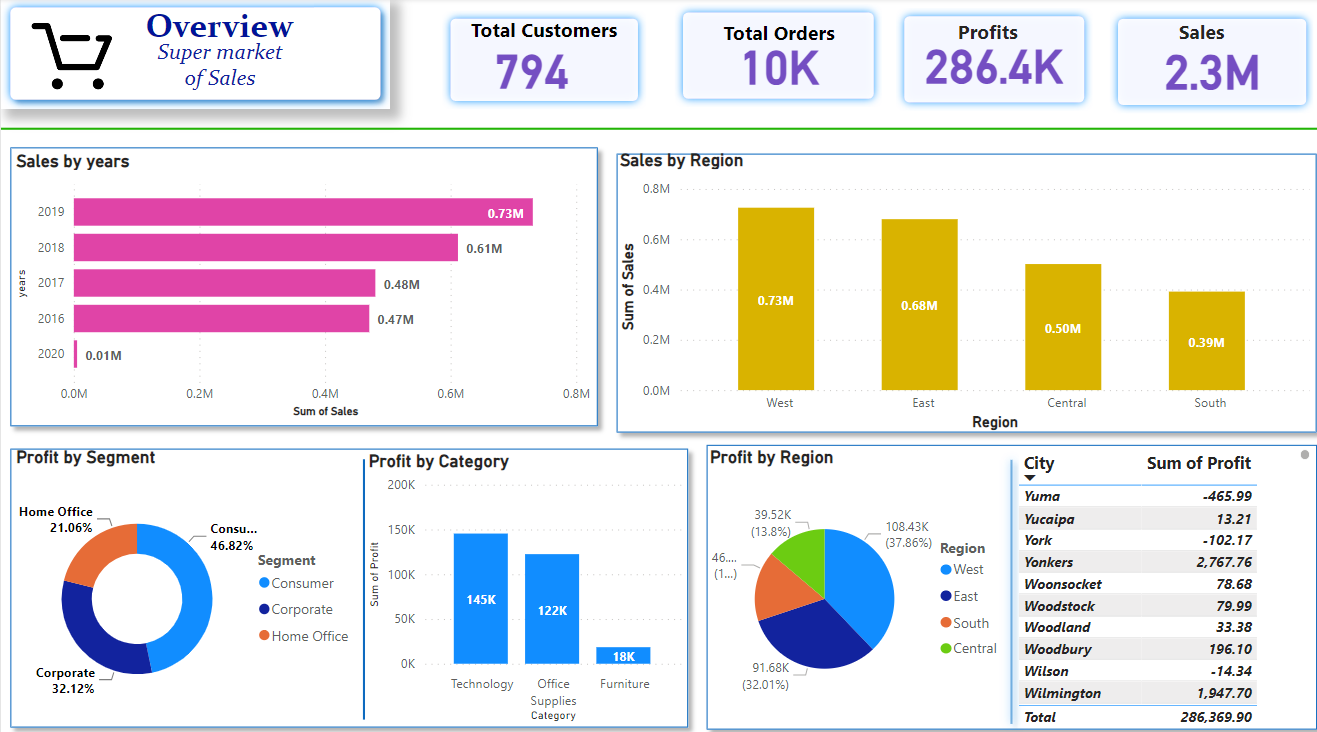

The page's visual inventory and layout, read from the dashboard file:
{"tool":"powerbi","page":{"name":"Dashboard","canvas":[1280,720],"ordinal":0},"visuals":[{"type":"shape","box":[0,27.7,1279.6,196.6],"z":0},{"type":"shape","box":[0,0,375.1,107.3],"z":1000},{"type":"shape","box":[425.7,12.1,196.6,95.3],"z":2000},{"type":"shape","box":[650.1,6,200.2,98.9],"z":3000},{"type":"shape","box":[1069.7,12.1,197.8,98.9],"z":4000},{"type":"shape","box":[863,9.4,189.3,98.9],"z":5000},{"type":"textbox","box":[1.2,2.4,299.1,49.4],"z":6000},{"type":"textbox","box":[435.4,13.3,177.3,43.4],"z":7000},{"type":"textbox","box":[1069.7,14.5,177.3,43.4],"z":8000},{"type":"textbox","box":[863.5,14.5,177.3,43.4],"z":9000},{"type":"textbox","box":[1.2,33.8,300.3,65.1],"z":10000},{"type":"image","box":[19.3,14.5,97.7,86.8],"z":11000},{"type":"shape","box":[0,135.1,584.9,287],"z":12000},{"type":"shape","box":[585.3,140.9,694.7,287],"z":13000},{"type":"shape","box":[0,425.7,671.8,287],"z":14000},{"type":"shape","box":[671.8,422.1,607.8,293.1],"z":15000},{"type":"shape","box":[824.9,436.6,300.3,272.6],"z":16000},{"type":"card","fields":{"Values":["Supersore Analysis.Total Customers"]},"box":[435.4,38.6,153.2,55.5],"z":17000},{"type":"textbox","box":[661.8,15.4,177.3,37.4],"z":18000},{"type":"card","fields":{"Values":["Supersore Analysis.Total Order"]},"box":[662.1,35,177.3,55.5],"z":19000},{"type":"card","fields":{"Values":["Supersore Analysis.Profit"]},"box":[885.2,33.8,144.7,55.5],"z":20000},{"type":"card","fields":{"Values":["Supersore Analysis.Total Sales"]},"box":[1090.3,38.6,156.8,55.5],"z":21000},{"type":"clusteredBarChart","title":"Sales by years","fields":{"Category":["Orders.years"],"Y":["Sum(Orders.Sales)"]},"box":[9.6,145.9,565.6,264.1],"z":22000},{"type":"pieChart","title":"Profit by Region","fields":{"Category":["Orders.Region"],"Y":["Sum(Orders.Profit)"]},"box":[679,433,296.7,275],"z":23000},{"type":"tableEx","fields":{"Values":["Orders.City","Sum(Orders.Profit)"]},"box":[975.7,430.6,291.9,277.4],"z":24000},{"type":"donutChart","title":"Profit by Segment","fields":{"Y":["Sum(Orders.Profit)"],"Series":["Orders.Segment"]},"box":[9.6,433,340.1,275],"z":25000},{"type":"shape","box":[200.2,445,300.3,250.9],"z":26000},{"type":"columnChart","title":"Profit by Category","fields":{"Category":["Orders.Category"],"Y":["Sum(Orders.Profit)"]},"box":[349.7,436.6,312.4,266.5],"z":27000},{"type":"clusteredColumnChart","title":"Sales by Region","fields":{"Y":["Sum(Orders.Sales)"],"Category":["Orders.Region"]},"box":[592.2,145.9,675.4,276.2],"z":28000}]}

Visuals, with their boxes in screenshot pixels (x1, y1, x2, y2), scaled from the page's 1280x720 canvas onto the 1317x732 screenshot:
shape: box(0, 28, 1316, 228)
shape: box(0, 0, 386, 109)
shape: box(438, 12, 640, 109)
shape: box(669, 6, 875, 107)
shape: box(1101, 12, 1304, 113)
shape: box(888, 10, 1083, 110)
textbox: box(1, 2, 309, 53)
textbox: box(448, 14, 630, 58)
textbox: box(1101, 15, 1283, 59)
textbox: box(888, 15, 1071, 59)
textbox: box(1, 34, 310, 101)
image: box(20, 15, 120, 103)
shape: box(0, 137, 602, 429)
shape: box(602, 143, 1316, 435)
shape: box(0, 433, 691, 725)
shape: box(691, 429, 1316, 727)
shape: box(849, 444, 1158, 721)
card - Supersore Analysis.Total Customers: box(448, 39, 606, 96)
textbox: box(681, 16, 863, 54)
card - Supersore Analysis.Total Order: box(681, 36, 864, 92)
card - Supersore Analysis.Profit: box(911, 34, 1060, 91)
card - Supersore Analysis.Total Sales: box(1122, 39, 1283, 96)
"Sales by years" clusteredBarChart: box(10, 148, 592, 417)
"Profit by Region" pieChart: box(699, 440, 1004, 720)
tableEx - Orders.City x Sum(Orders.Profit): box(1004, 438, 1304, 720)
"Profit by Segment" donutChart: box(10, 440, 360, 720)
shape: box(206, 452, 515, 707)
"Profit by Category" columnChart: box(360, 444, 681, 715)
"Sales by Region" clusteredColumnChart: box(609, 148, 1304, 429)
